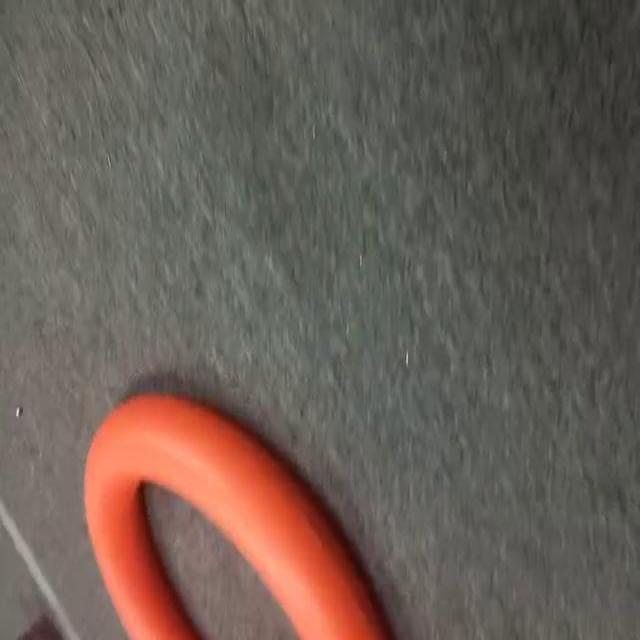note: (74, 385, 403, 640)
